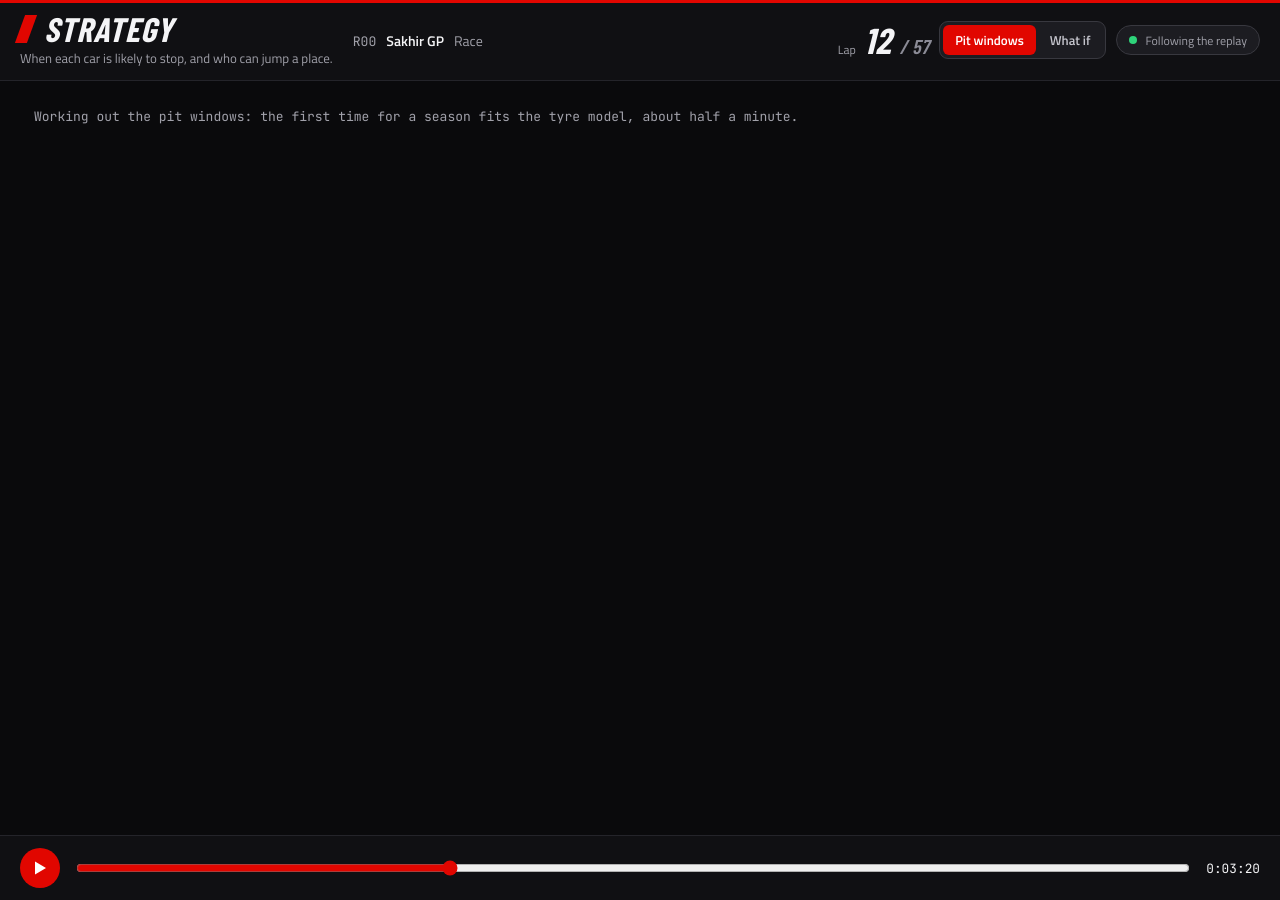
Test: a feature window › asks for the model fit only for the features that need it
The model's own plans are under What if.
Click the radio button labelled "What if": (1070, 40) [1038, 25, 1102, 55]
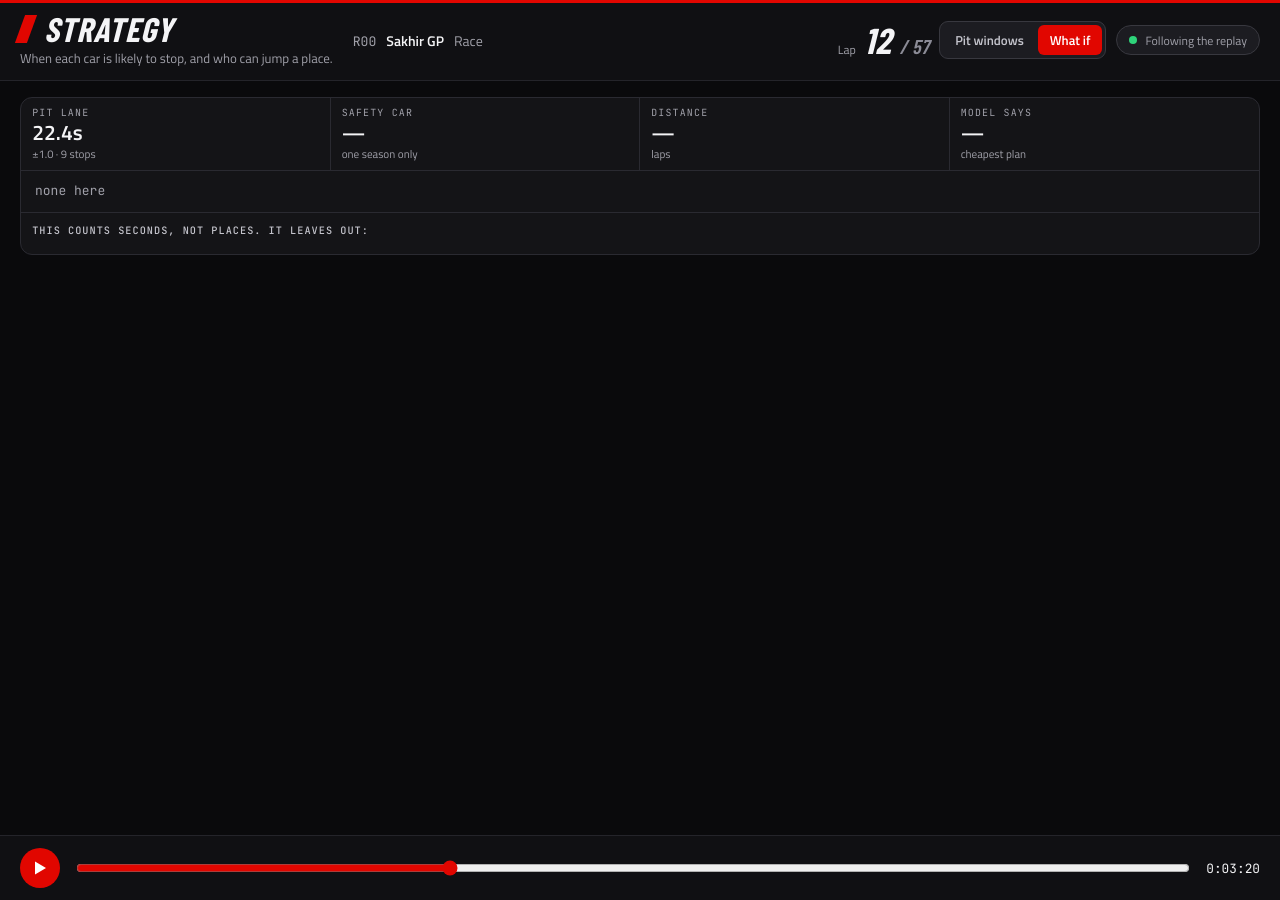
Result: the text "22.4s" is shown at [32, 116, 83, 148]
